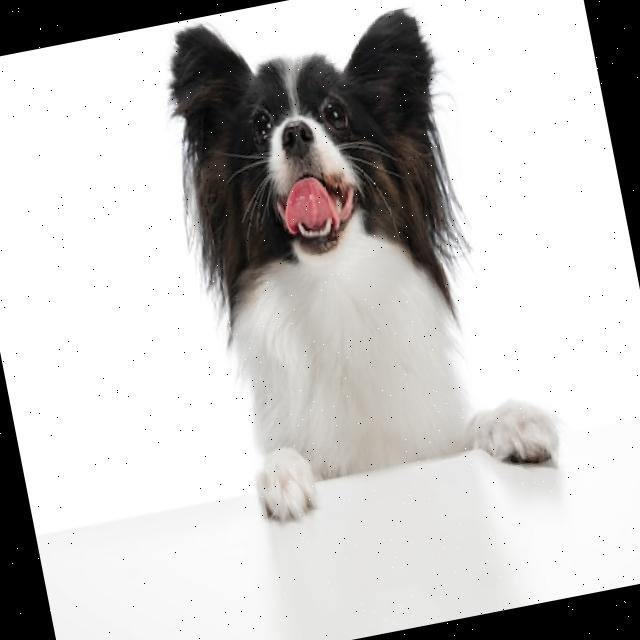Dog: (154, 0, 567, 524)
